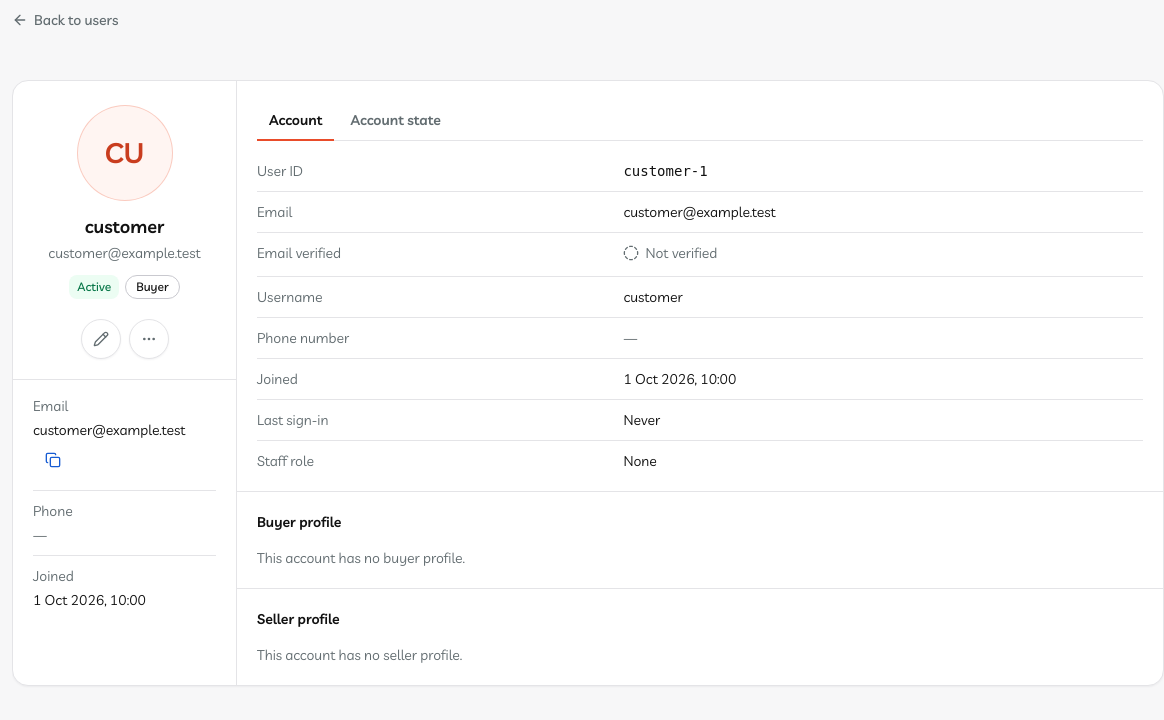
it: detail permissions › shows exactly the user actions granted to super_admin
Click the button named "More user actions" at coordinates (148, 339), box [128, 319, 168, 359]
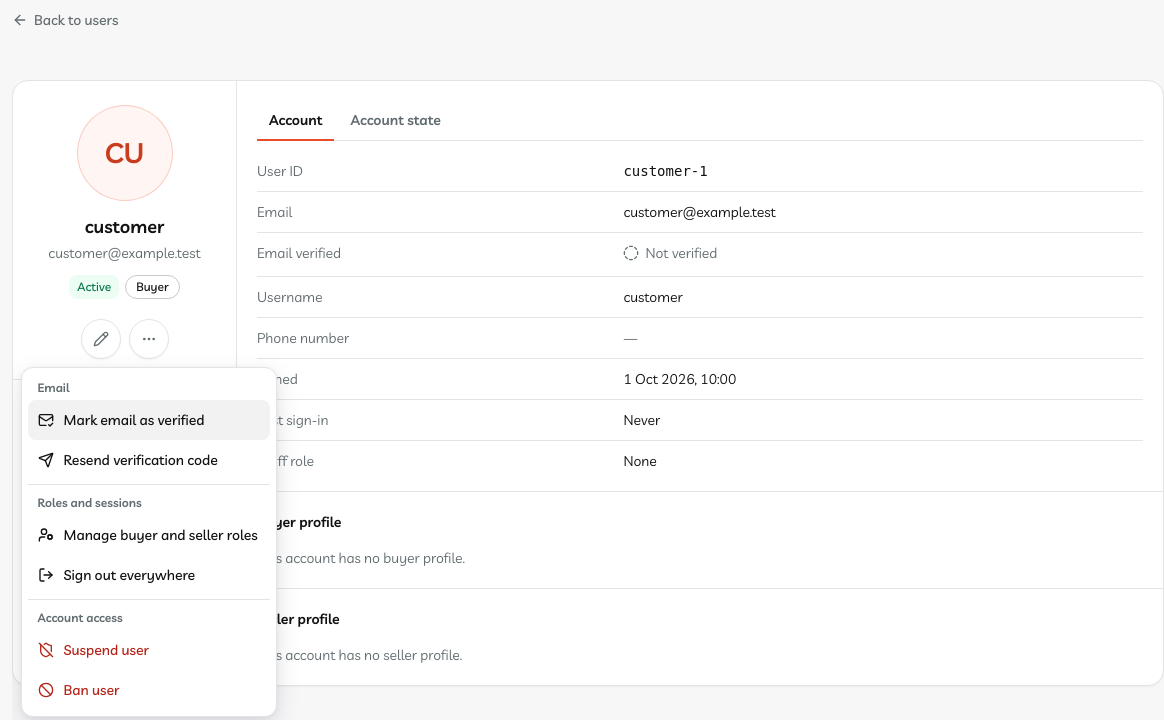
Check: the menu items read "Mark email as verified", "Resend verification code", "Manage buyer and seller roles", "Sign out everywhere", "Suspend user", "Ban user", in this order, box [28, 400, 270, 440]; [28, 440, 270, 480]; [28, 515, 270, 555]; [28, 555, 270, 595]; [28, 630, 270, 670]; [28, 670, 270, 710]
